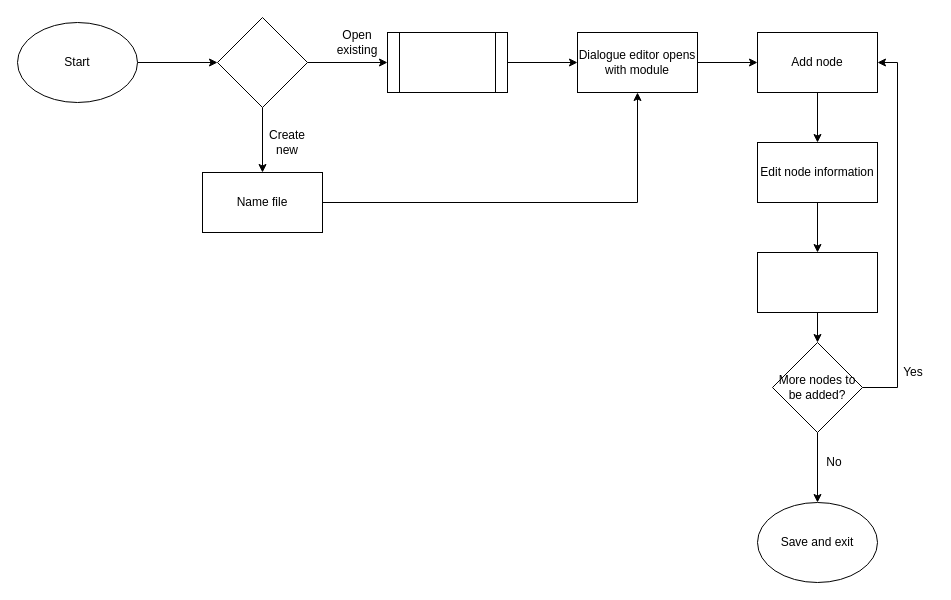
This 951x600 diagram has some shape labels left out. Here are the shapes that lost their labels. From the top down, the centre of each, then its label:
(262,62): Open existing or create new
(447,62): Toolset load module process
(817,282): Attach scripts
